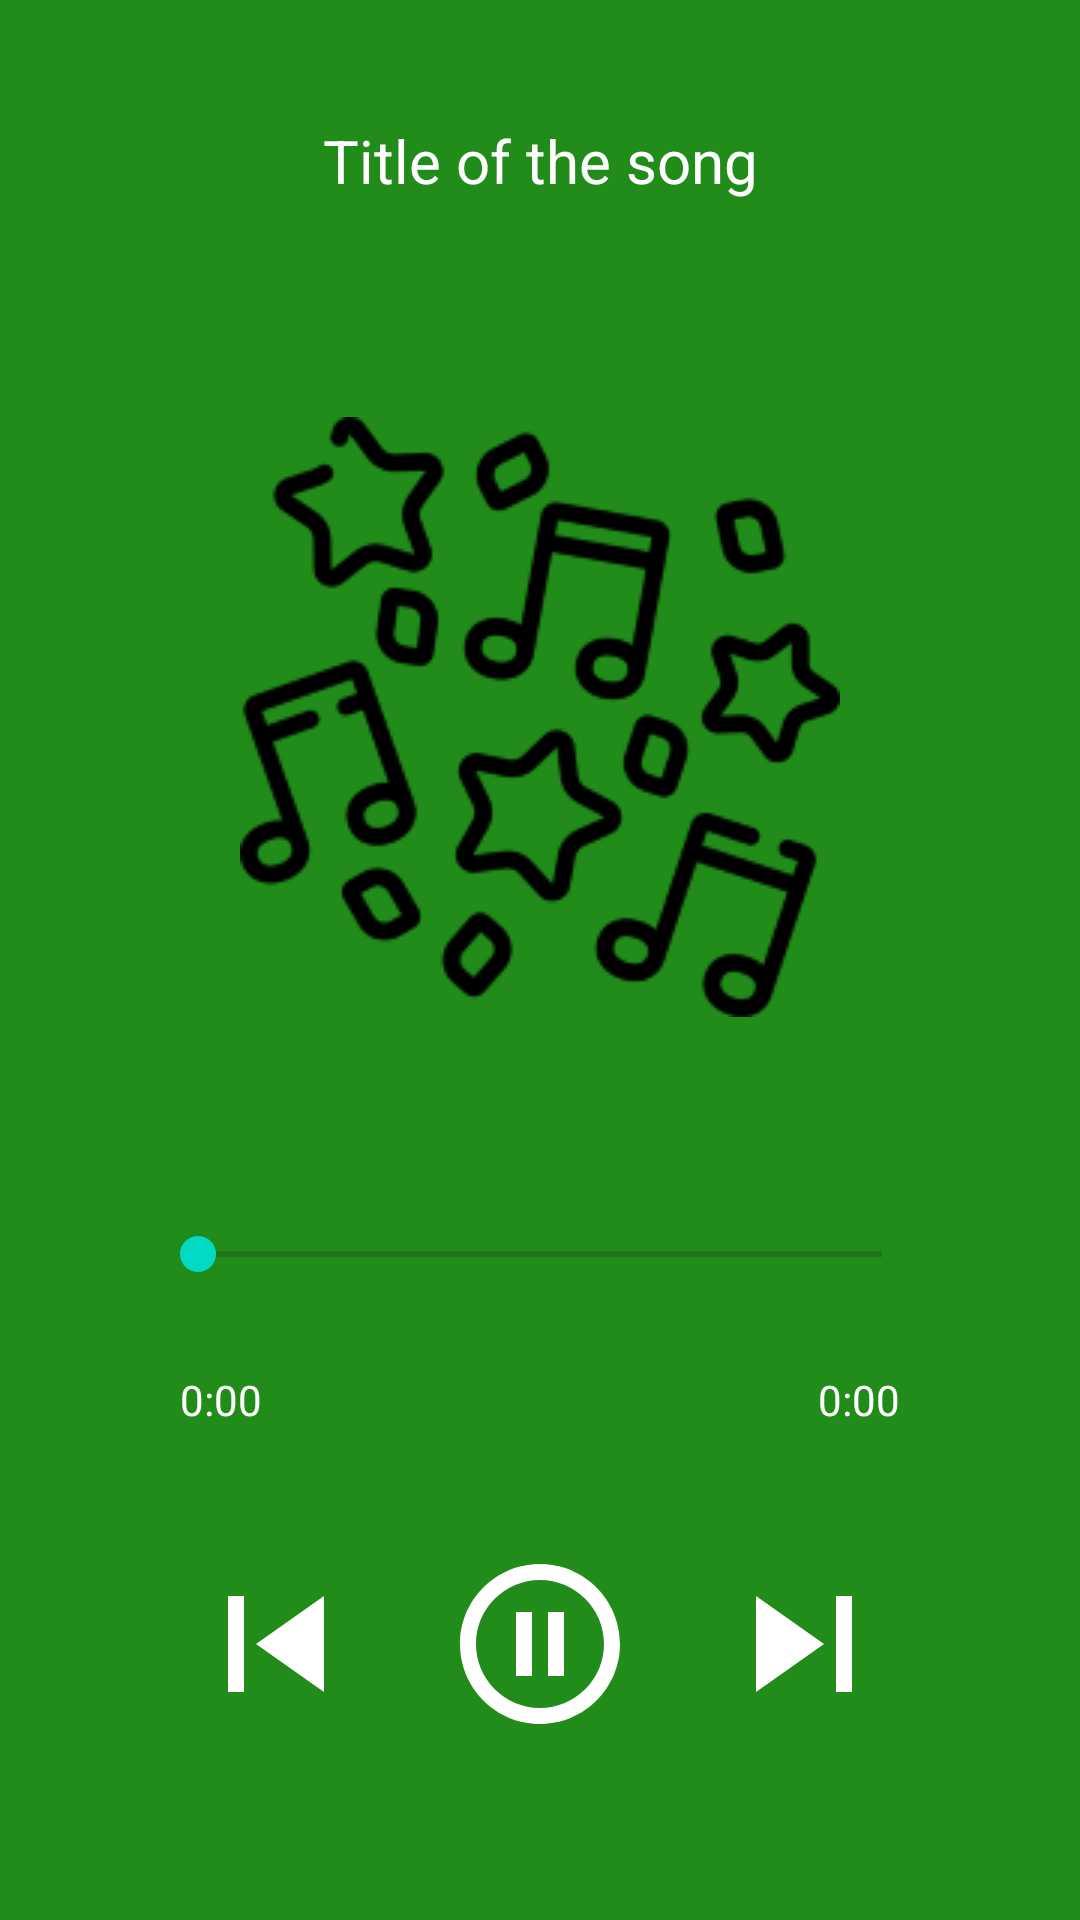

Where icons sit on this 1080px x 1920px app screen, as (x1=x1, y1=y1, x2=x2, y2=y2):
pause circle: (x1=460, y1=1564, x2=620, y2=1724)
skip next: (x1=756, y1=1596, x2=852, y2=1692)
skip previous: (x1=228, y1=1596, x2=324, y2=1692)
